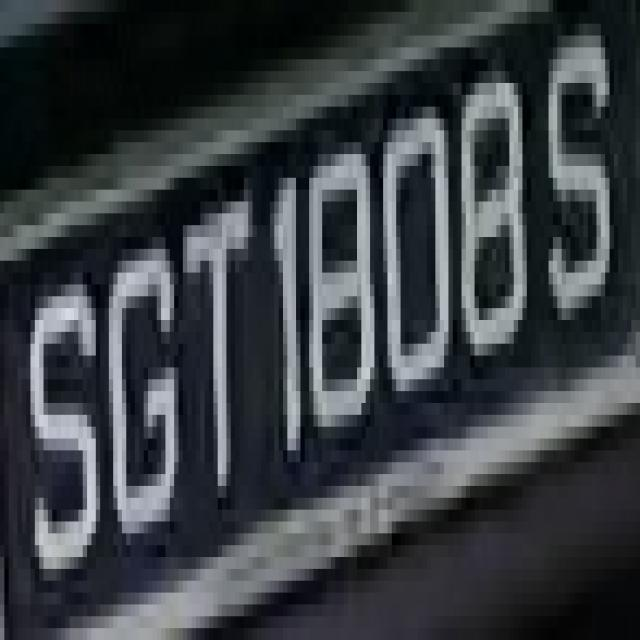0: (375, 71, 457, 450)
1: (270, 142, 309, 486)
8: (440, 59, 536, 380), (296, 130, 379, 450)
G: (92, 237, 192, 557)
S: (18, 249, 104, 604), (540, 23, 614, 356)
T: (174, 178, 257, 510)
